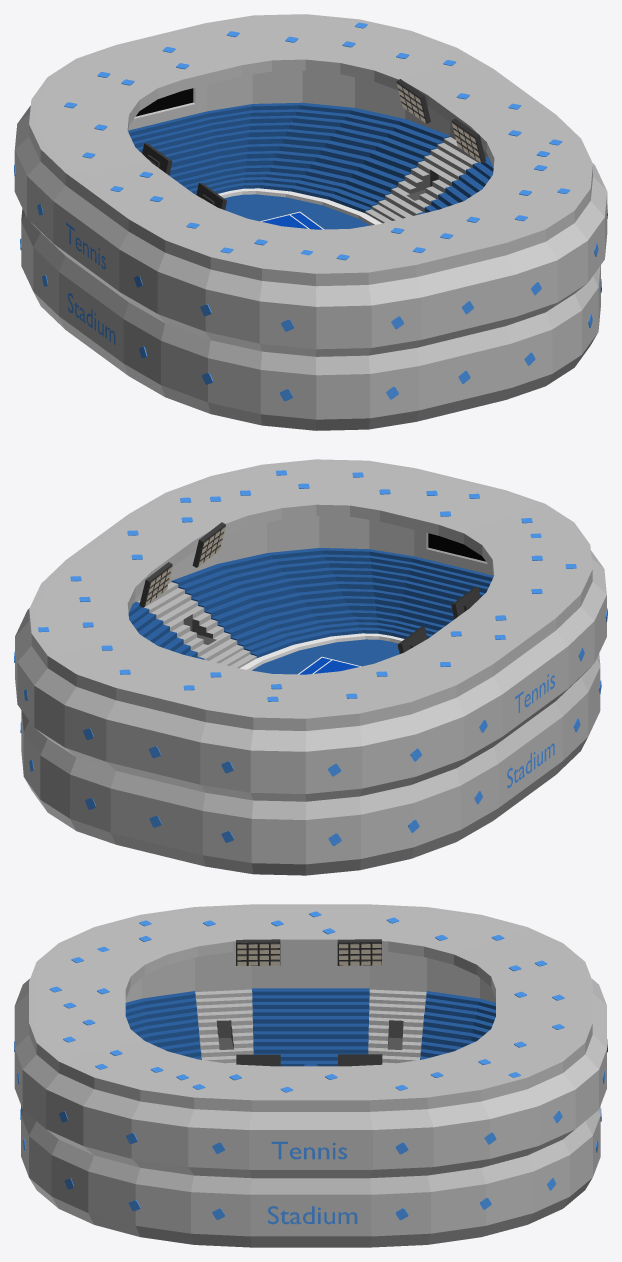
The model's file is Lowpoly Tennis Stadium.fbx.
3 renders of one model, top to bottom at view 1: azimuth 30°, elevation 25°; view 2: azimuth 150°, elevation 25°; view 3: azimuth 270°, elevation 25°, orthographic. The views are drawn at different scales.
Parts seen in each view (by area): view 1: Tennis Stadium, Object.009, Object.010; view 2: Tennis Stadium, Object.009, Object.010; view 3: Tennis Stadium, Object.008, Object.007, Object.010, Object.009.
Boxes of the visible parts, x1,y1,x2,y2 form: Tennis Stadium: [14, 14, 607, 430]; Object.009: [451, 118, 485, 163]; Object.010: [396, 79, 430, 123]; Tennis Stadium: [14, 459, 607, 875]; Object.009: [192, 522, 225, 567]; Object.010: [139, 562, 172, 607]; Tennis Stadium: [14, 904, 607, 1247]; Object.008: [337, 939, 381, 965]; Object.007: [236, 939, 280, 965]; Object.010: [338, 1054, 382, 1066]; Object.009: [236, 1054, 280, 1066].
Bounding box in the file's own units: 204 × 70.82 × 248.
